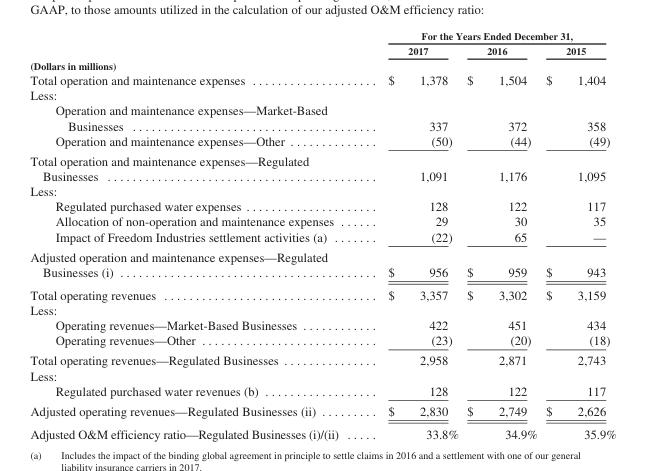table: (29, 29, 615, 440)
table column: (29, 29, 362, 440), (362, 29, 462, 440), (462, 29, 541, 440), (541, 29, 615, 440)
table column header: (29, 29, 615, 71)
table projected row header: (29, 301, 615, 317), (29, 87, 615, 102), (29, 183, 615, 198), (29, 367, 615, 382)
table row: (29, 246, 615, 283), (29, 150, 615, 183), (29, 102, 615, 132), (29, 42, 615, 71), (29, 400, 615, 421), (29, 421, 615, 440), (29, 132, 615, 150), (29, 228, 615, 246), (29, 283, 615, 301), (29, 349, 615, 367), (29, 382, 615, 400), (29, 332, 615, 349), (29, 71, 615, 87), (29, 301, 615, 317), (29, 87, 615, 102), (29, 183, 615, 198), (29, 198, 615, 213), (29, 213, 615, 228), (29, 317, 615, 332), (29, 367, 615, 382), (29, 29, 615, 42)
table spanning cell: (29, 29, 362, 71), (362, 29, 615, 42)
